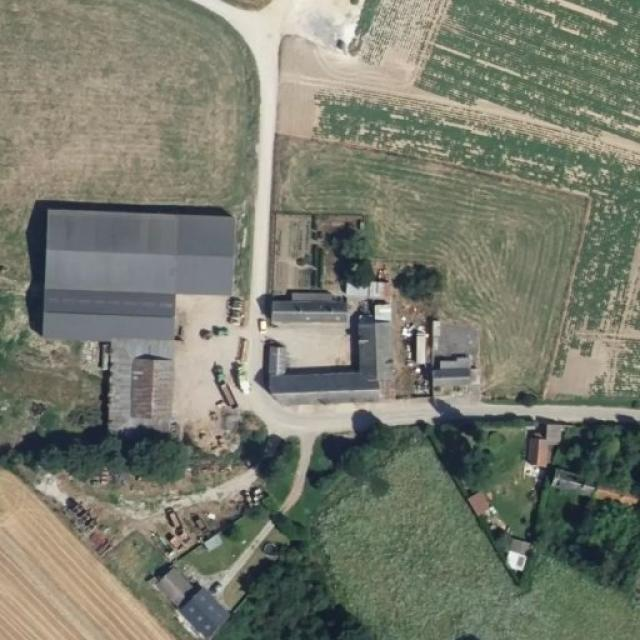ferme: (157, 552, 235, 635)
maison: (422, 348, 486, 406), (266, 296, 352, 326), (526, 426, 557, 469)
usine: (42, 193, 232, 344), (264, 320, 394, 396), (98, 322, 170, 428)
